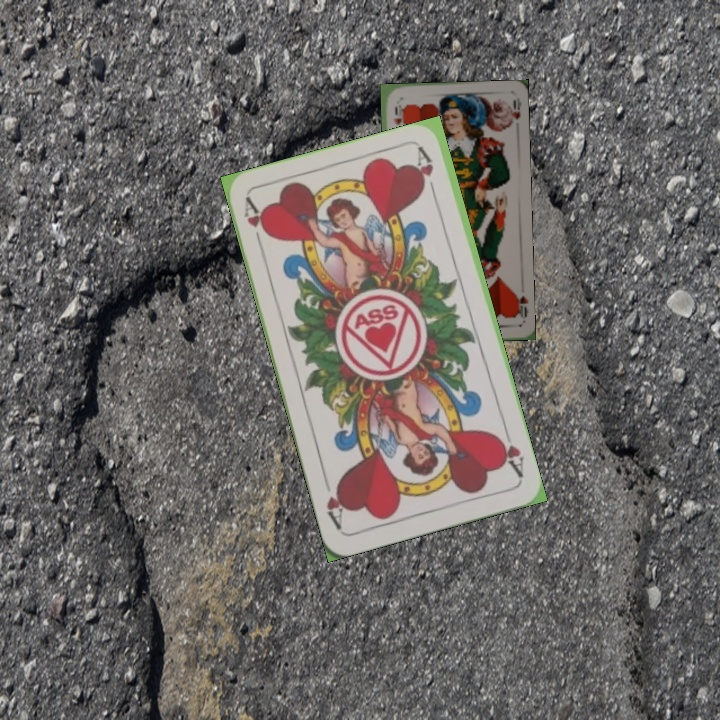HA: (239, 194, 272, 253), (493, 423, 526, 480)
HO: (510, 289, 530, 320), (389, 101, 404, 127)
